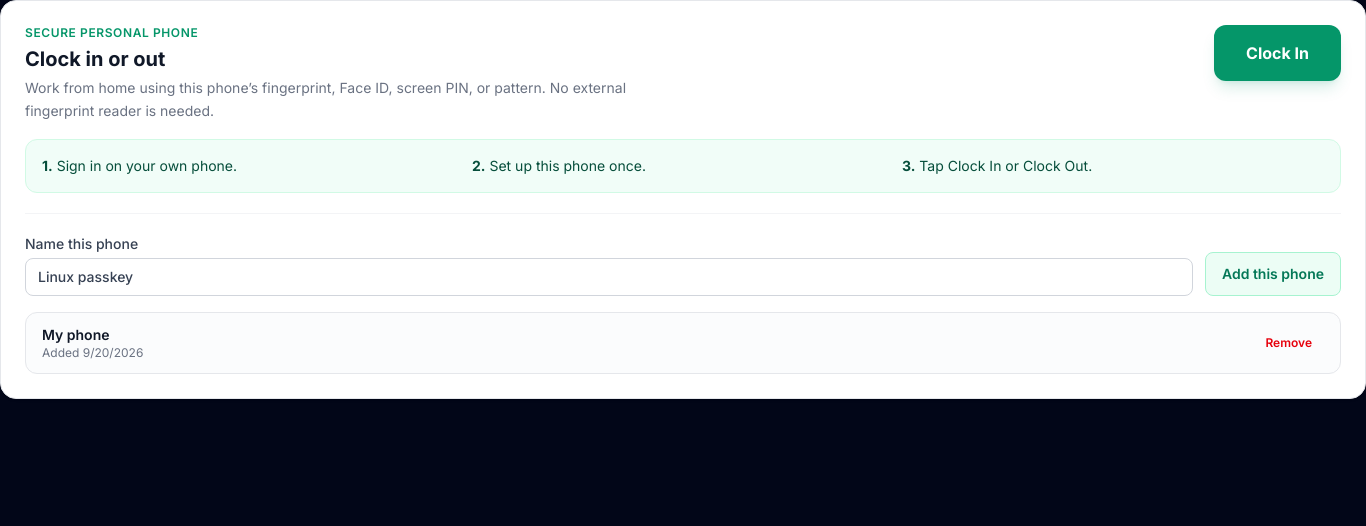
personal phone clock › retries the exact same request after a network failure
Click the button "Clock In". click: (1278, 53)
box: left=1214, top=25, right=1341, bottom=81
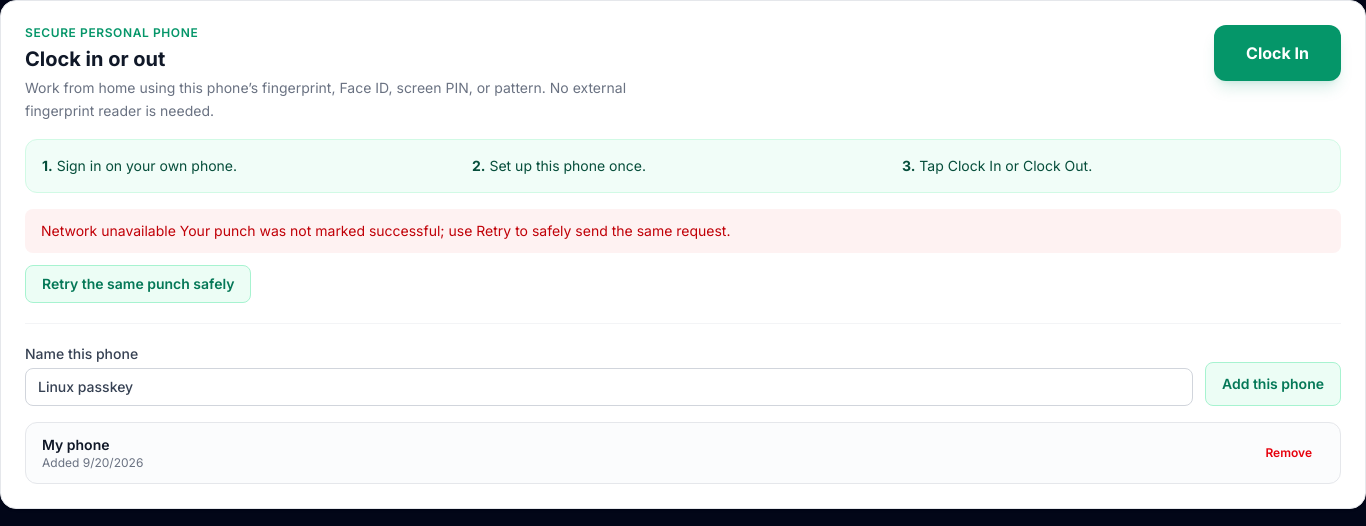
Click the button "Retry the same punch safely". click: (138, 284)
box: left=25, top=264, right=252, bottom=302
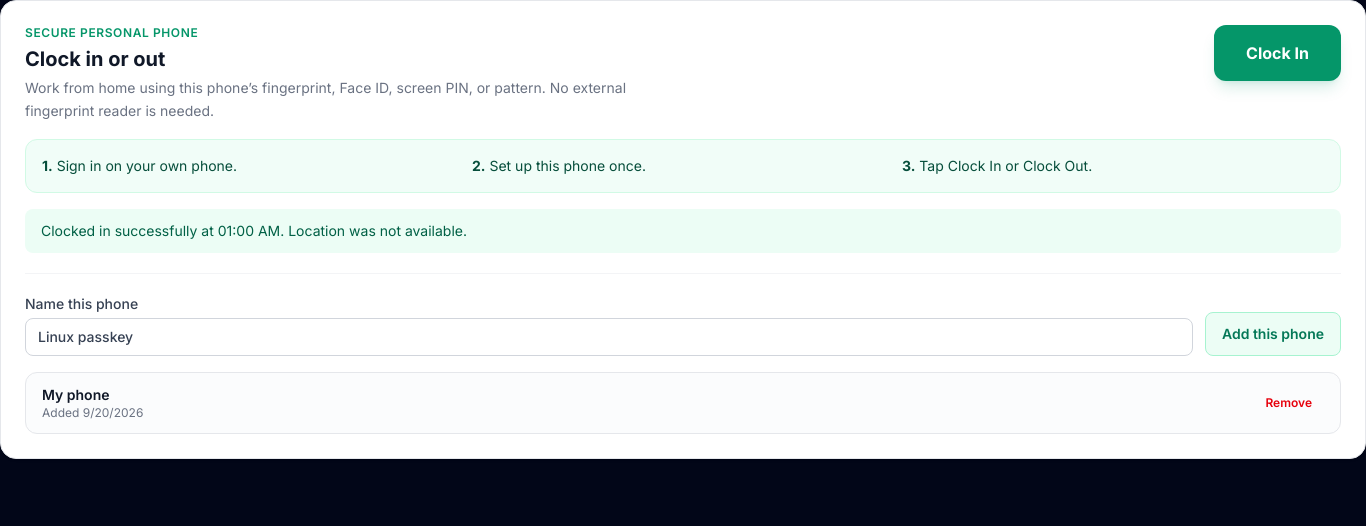
Now the text "Clocked in successfully" is shown, box left=41, top=222, right=467, bottom=238
